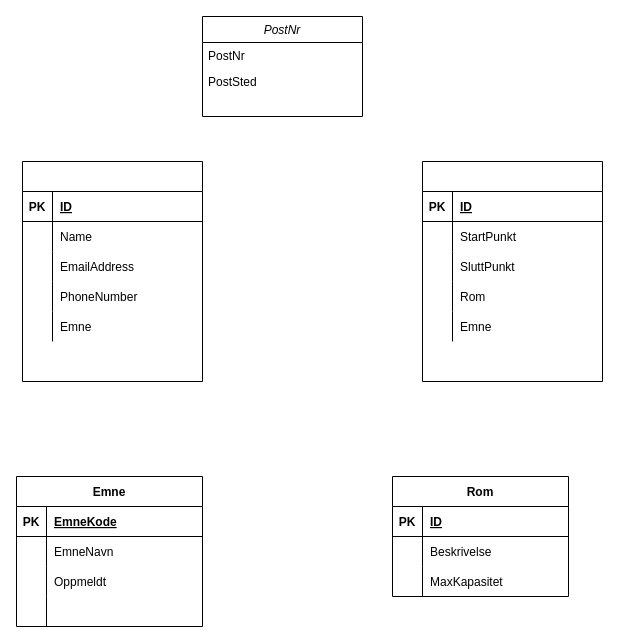
This 619x643 diagram has some shape labels left out. The shapes that lost their labels are listed below. From the top down, each one's box as (x1, y1, x2, y2) in pixels, then its label:
(22, 160, 202, 382): Personer
(422, 160, 602, 382): Fysisk Økt
